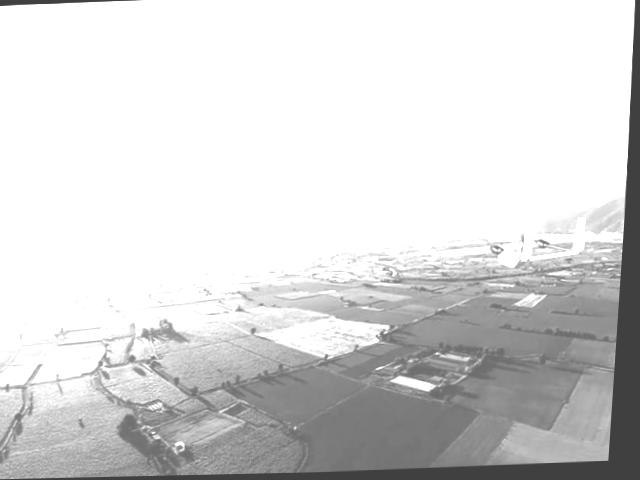hedef: (431, 212, 601, 298)
